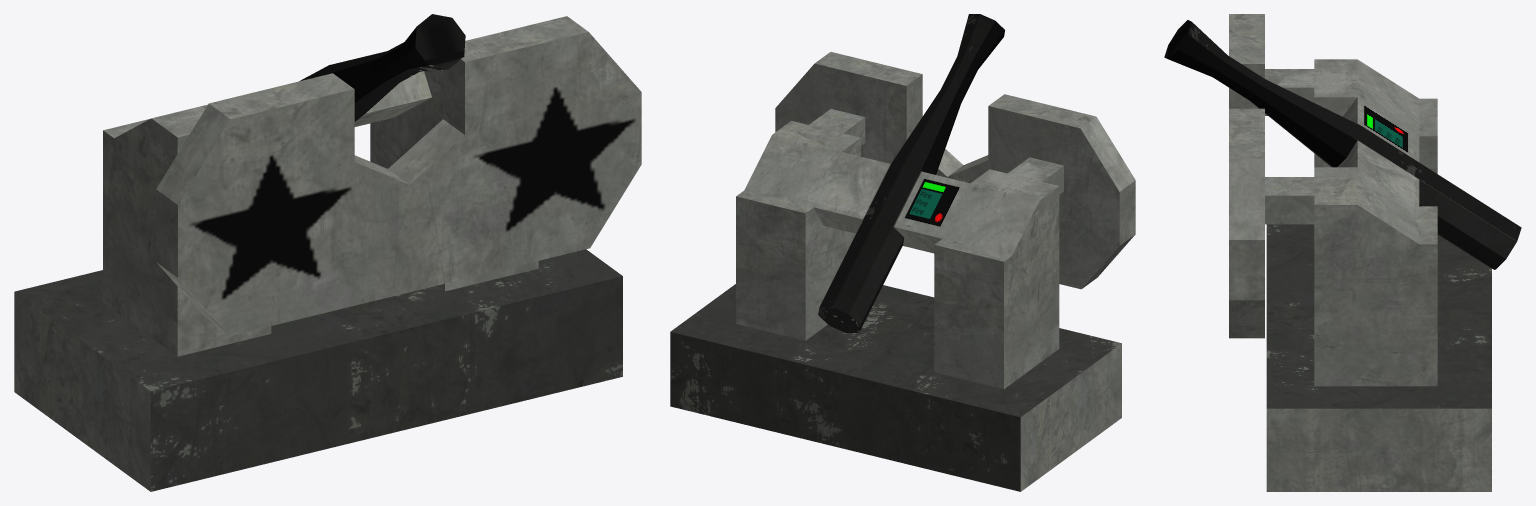
The model's file is Turret.fbx.
3 renders of one model, left to right at view 1: azimuth 30°, elevation 25°; view 2: azimuth 150°, elevation 25°; view 3: azimuth 270°, elevation 25°, orthographic. The views are drawn at different scales.
Visible parts, largest first — view 1: Turret; view 2: Turret; view 3: Turret.
Part boxes in pixels (x1,y1,x2,y2): Turret: (14,14,641,491); Turret: (670,14,1135,491); Turret: (1164,14,1521,491).
Size of what is drawn, in the model's own units: 1.69 by 1.55 by 1.34.
1 material, 1 textured.
